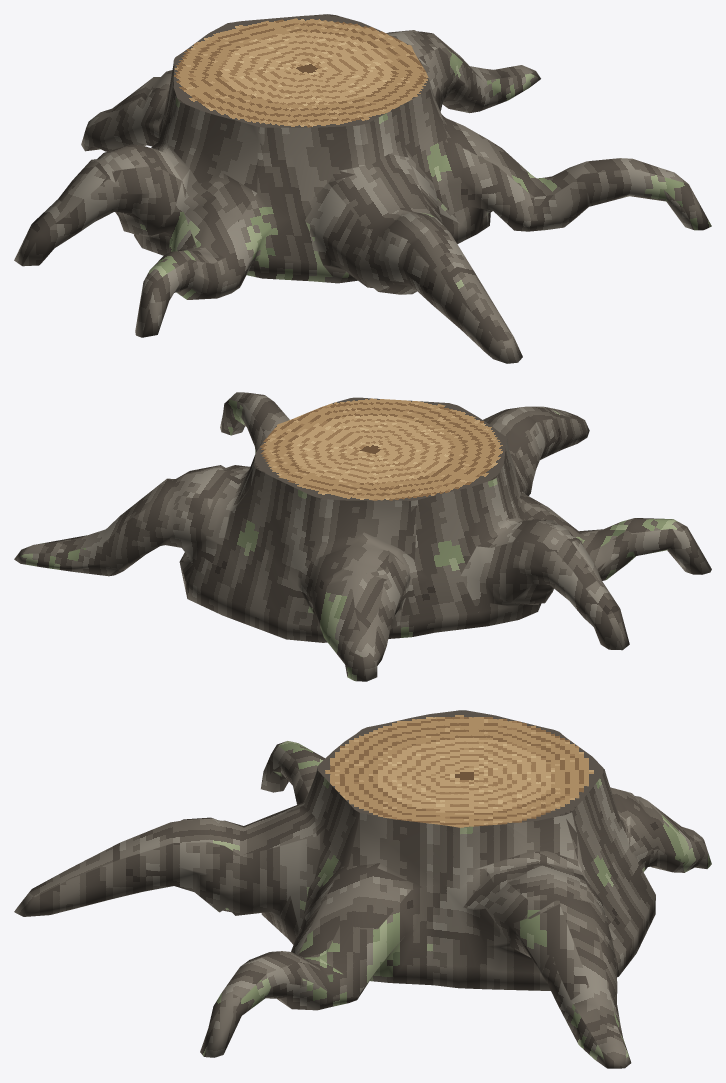
Rendered from environment_elm3_stump_v57.fbx.
3 views of the same model, one above another, from view 1: azimuth 30°, elevation 25°; view 2: azimuth 150°, elevation 25°; view 3: azimuth 270°, elevation 25° (orthographic). The views are drawn at different scales.
Parts seen in each view (by area): view 1: environment_elm3_stump_v57; view 2: environment_elm3_stump_v57; view 3: environment_elm3_stump_v57.
Part boxes in pixels (x1,y1,x2,y2): environment_elm3_stump_v57: [14, 14, 711, 363]; environment_elm3_stump_v57: [14, 392, 711, 681]; environment_elm3_stump_v57: [14, 710, 711, 1068].
Bounding box in the file's own units: 524 × 115 × 523.
Materials: 2 (2 with a texture image).
